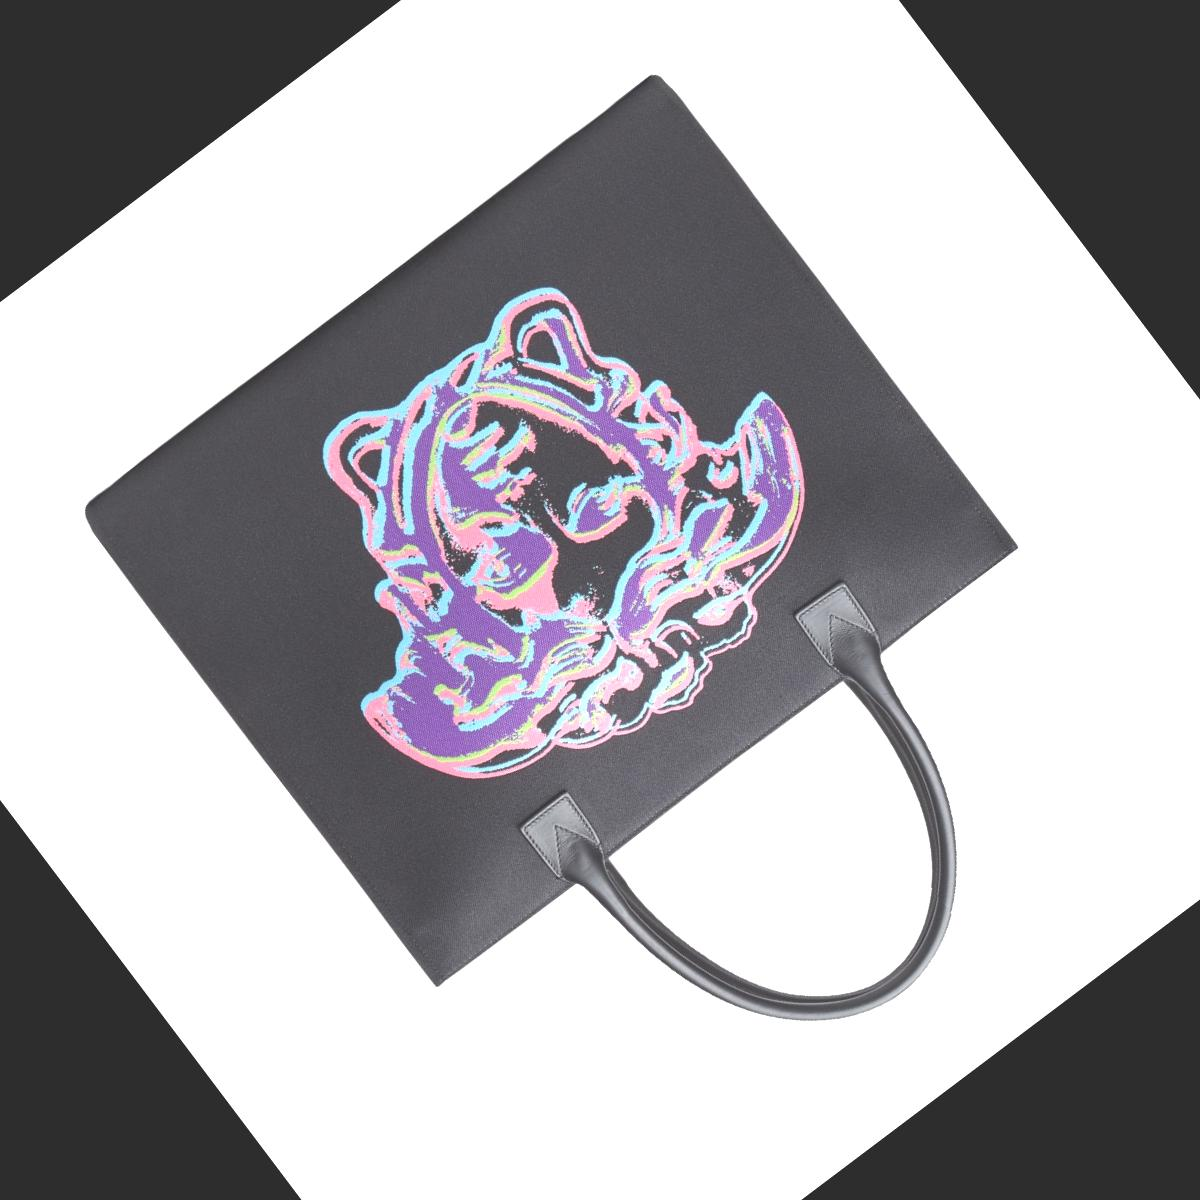VERSACE: (210, 200, 890, 867)
